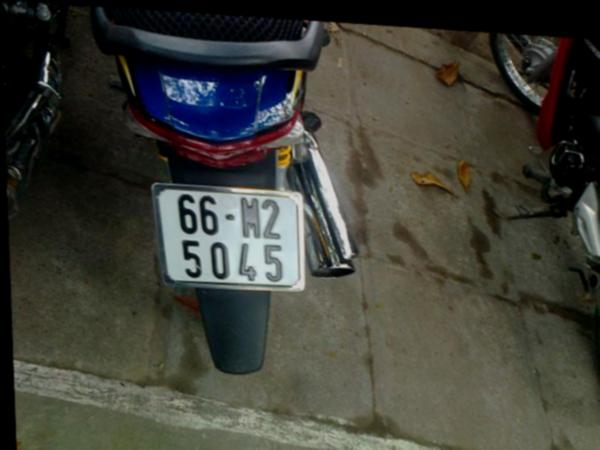License_Plate: (153, 184, 303, 294)
